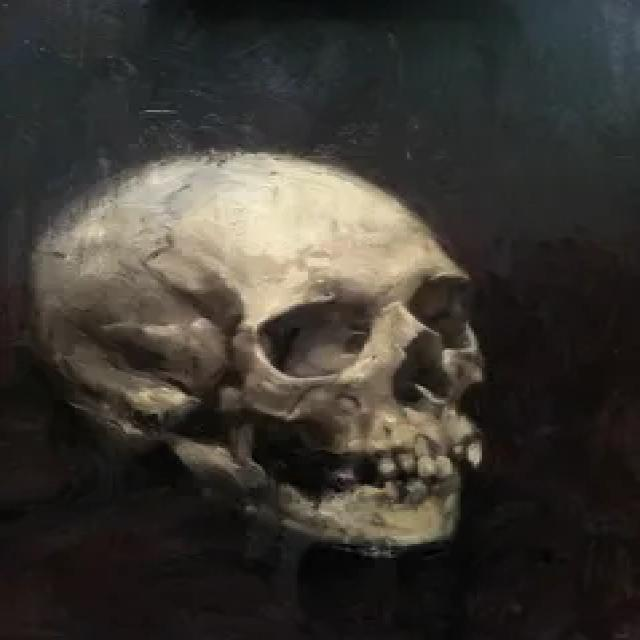skull: (0, 142, 505, 577)
